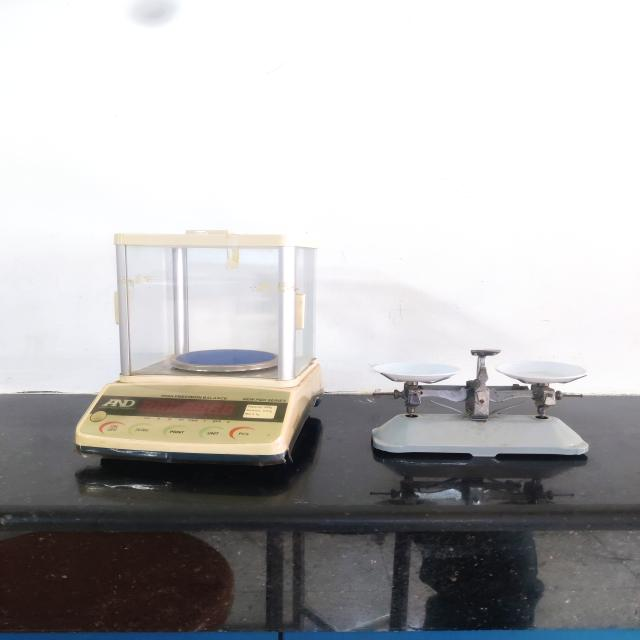Mechanical_Balance_Scale: (350, 315, 612, 493)
Precision_Weight_Scale: (56, 216, 337, 494)
